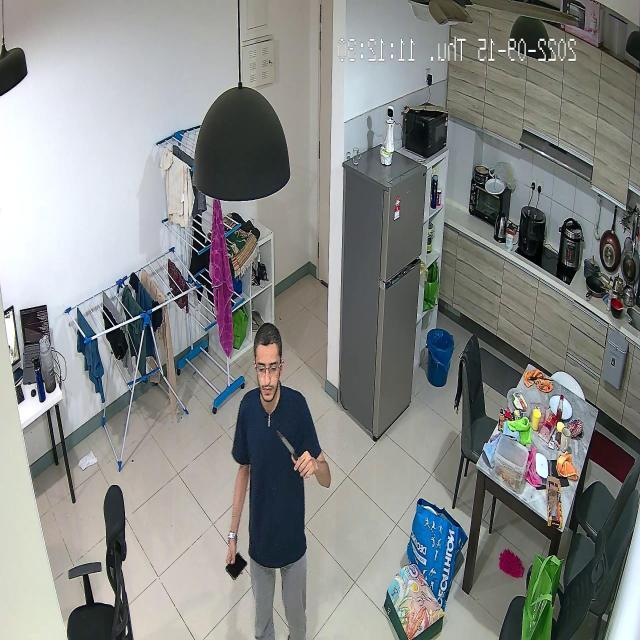Knife: (273, 419, 314, 478)
